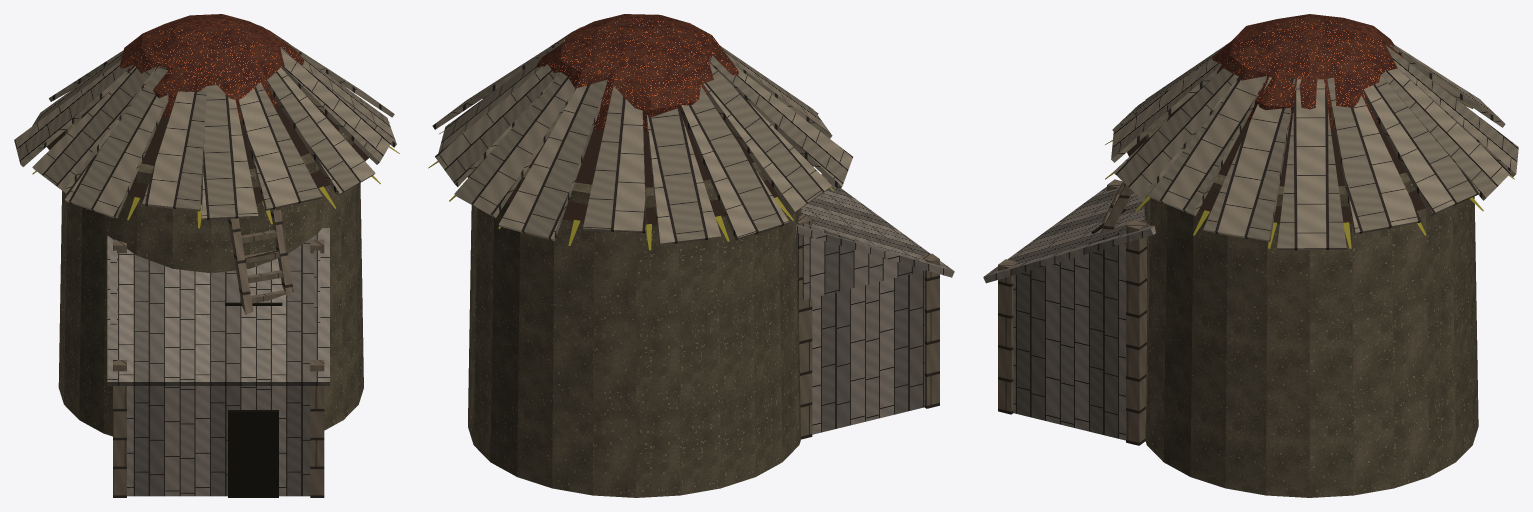
File: AraHut11.glb
The picture shows the model from 3 angles, left to right: view 1: azimuth 30°, elevation 25°; view 2: azimuth 150°, elevation 25°; view 3: azimuth 270°, elevation 25°; orthographic projection. The views are drawn at different scales.
Visible parts, largest first — view 1: AraHut11_gwall; view 2: AraHut11_gwall; view 3: AraHut11_gwall.
Boxes of the visible parts, <box> form: AraHut11_gwall: <box>14,14,399,497</box>; AraHut11_gwall: <box>428,14,954,497</box>; AraHut11_gwall: <box>983,14,1518,497</box>.
Size of the model in its own units: 6.62 by 6.2 by 7.62.
Materials: 8 (5 with a texture image).
